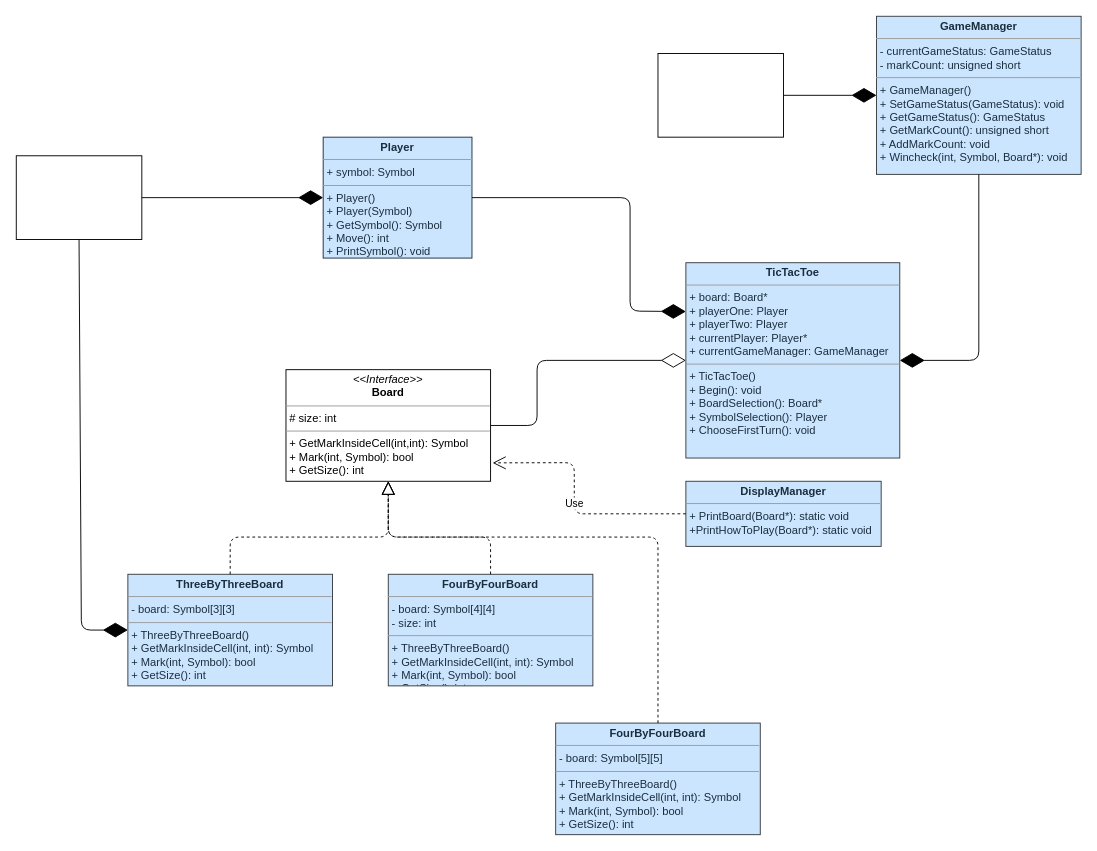
Image size: 1097x851. Some labels were removed from this diagram. Here are the shapes that lost their labels. From the top down, the centre of each, then its label:
point (720, 95): <<Enum>> GameStatus InProgress Draw Win
point (78, 197): <<Enum>> Symbol Blank O X
